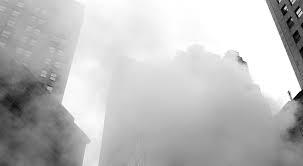smoke: (117, 56, 275, 166), (1, 4, 87, 165)
